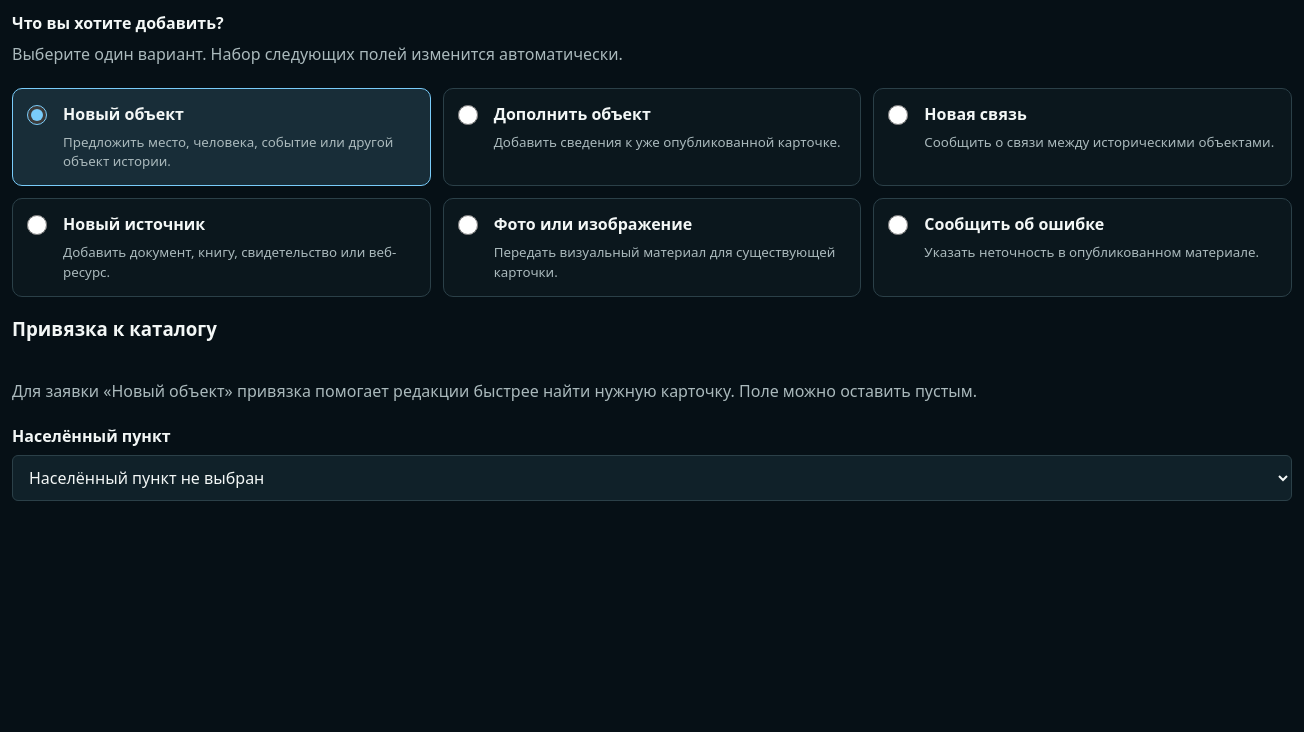
Test: submission wizard contract › offers every documented type and shows the relevant relation targets
Click the radio button labelled "Новая связь Сообщить о связи между историческими объектами.": (898, 115) [888, 105, 908, 125]
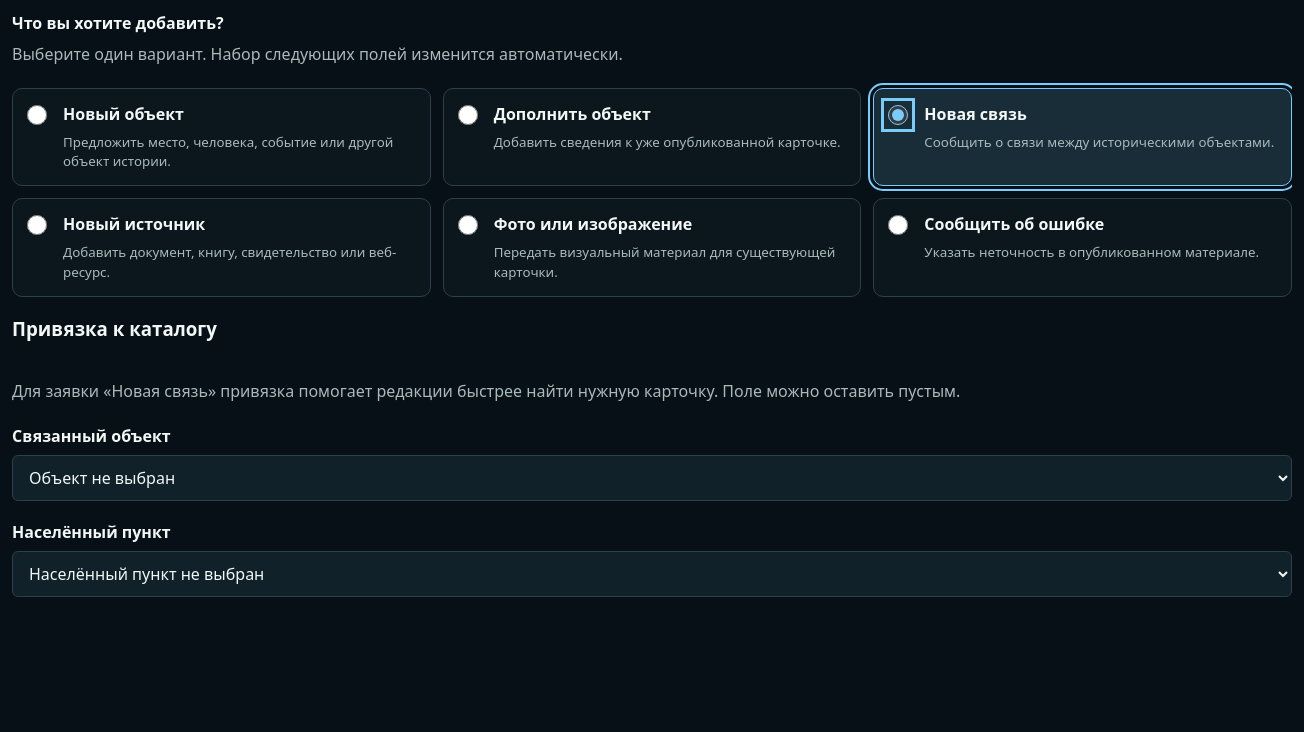
Expected: the dropdown labelled "Населённый пункт" is shown, [12, 551, 1292, 597]
Expected: the dropdown labelled "Связанный объект" is shown, [12, 455, 1292, 501]
